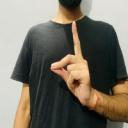hand: (50, 20, 96, 108)
